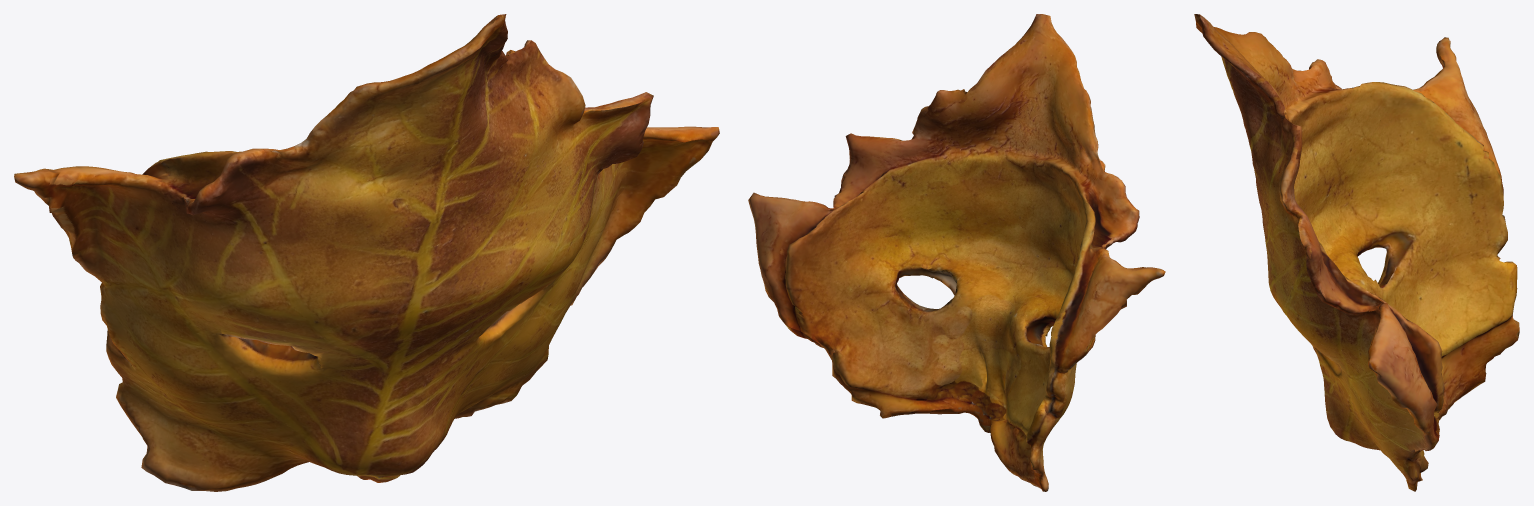
File: folha.glb
3 renders of one model, left to right at view 1: azimuth 30°, elevation 25°; view 2: azimuth 150°, elevation 25°; view 3: azimuth 270°, elevation 25°, orthographic. The views are drawn at different scales.
Parts seen in each view (by area): view 1: low; view 2: low; view 3: low.
Boxes of the visible parts, box(x1,y1,x2,y2) form: low: box(14, 14, 719, 491); low: box(748, 14, 1165, 491); low: box(1194, 14, 1519, 491).
Bounding box in the file's own units: 0.9367 × 0.7489 × 0.4905.
Materials: 1 (1 with a texture image).
